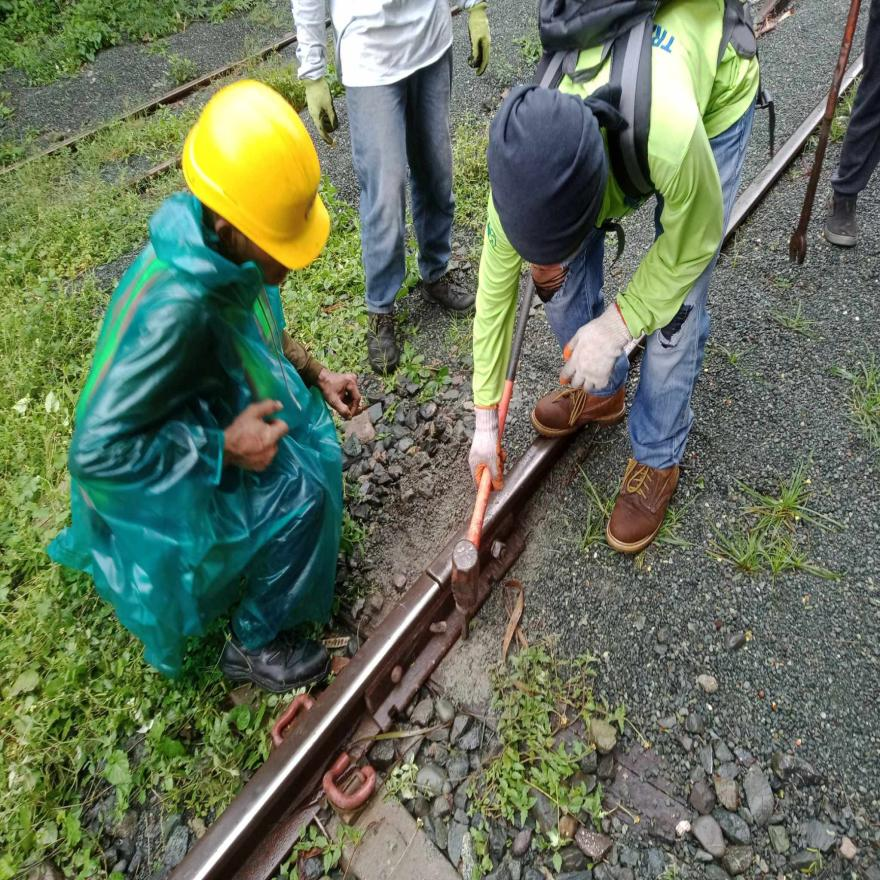railway-gap: (410, 553, 452, 607)
